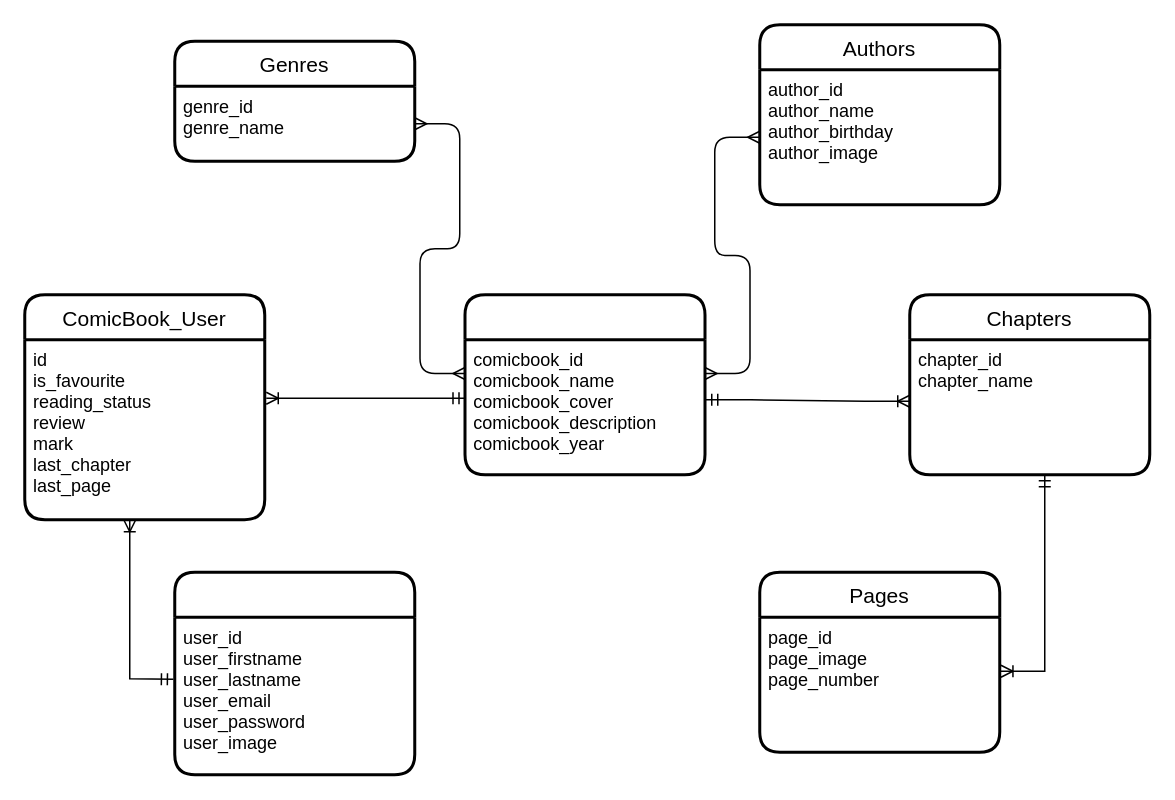
Image size: 1175x800. Some labels were removed from this diagram. The shapes that lost their labels are listed below. From the top down, each one's box as (x1, y1, x2, y2) in pixels, then its label:
(463, 292, 706, 476): ComicBooks
(172, 570, 416, 776): Users
